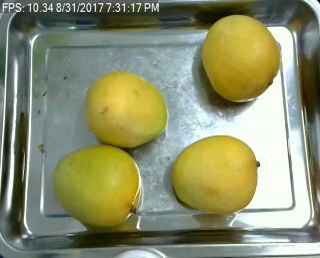Mango: (55, 145, 141, 226), (203, 14, 280, 102), (173, 135, 257, 214), (87, 71, 167, 147)
